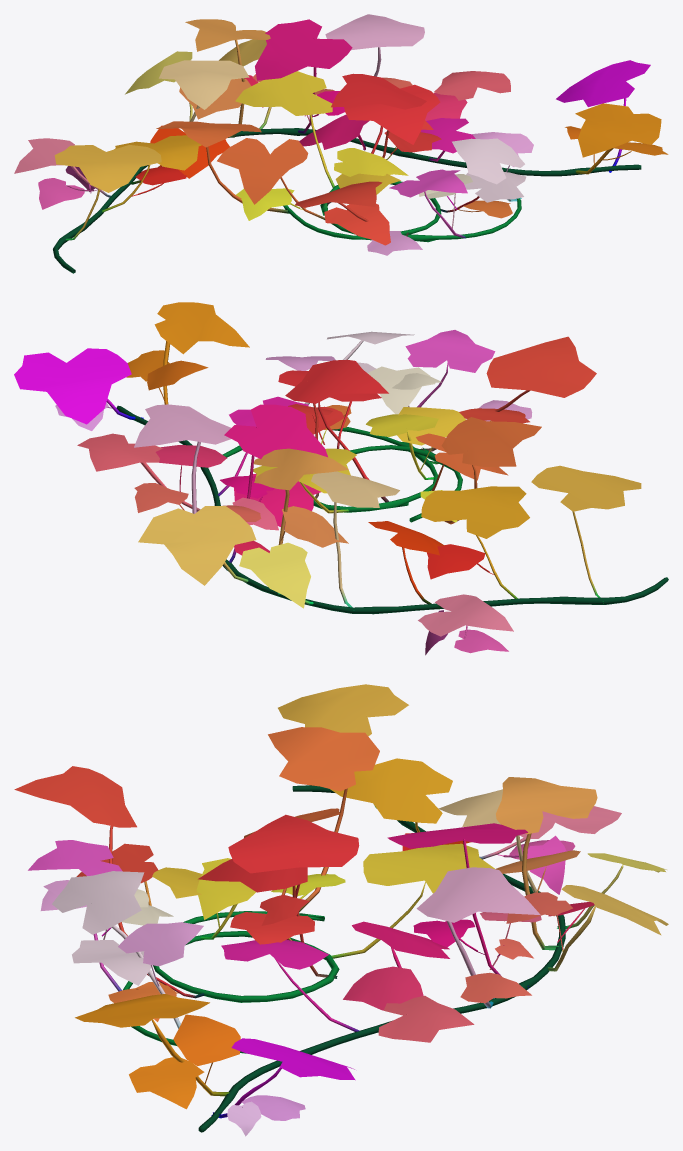
The model's file is English_Ivy_xfcnebhqx_High_xfcnebhqx_VarF_LOD1.fbx.
3 renders of one model, top to bottom at view 1: azimuth 30°, elevation 25°; view 2: azimuth 150°, elevation 25°; view 3: azimuth 270°, elevation 25°, orthographic. The views are drawn at different scales.
Parts seen in each view (by area): view 1: _4jaq_VarF_LOD1; view 2: _4jaq_VarF_LOD1; view 3: _4jaq_VarF_LOD1.
Boxes of the visible parts, x1=… form: _4jaq_VarF_LOD1: x1=14, y1=14, x2=668, y2=273; _4jaq_VarF_LOD1: x1=14, y1=302, x2=668, y2=655; _4jaq_VarF_LOD1: x1=14, y1=684, x2=668, y2=1136.
Bounding box in the file's own units: 59.19 × 13.42 × 43.88.
